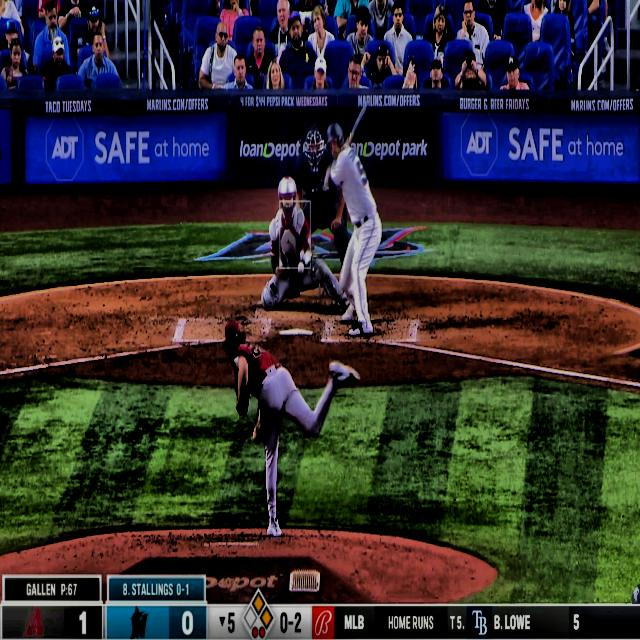baseball: (296, 260, 306, 276)
